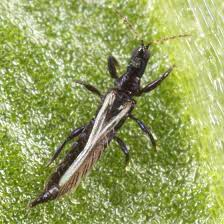Phlaeothripidae: (28, 16, 190, 209)
